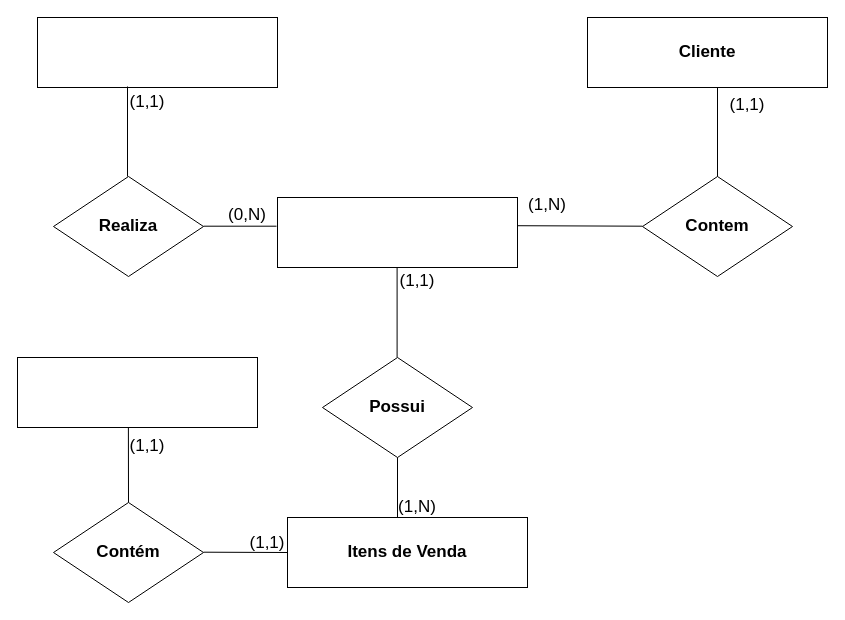
Image size: 845x620. Some labels were removed from this diagram. Each missing label, with the box of its shape:
Produto: (16, 356, 258, 428)
Venda: (276, 196, 518, 268)
Vendedor: (36, 16, 278, 88)
